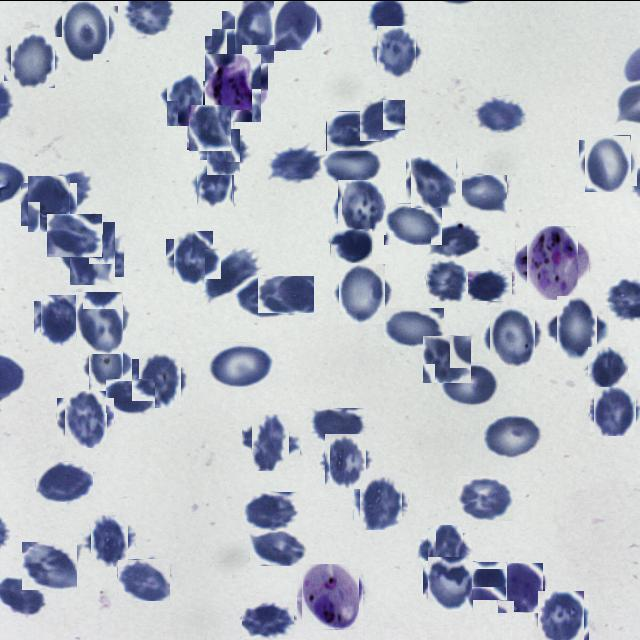gametocyte: (202, 55, 264, 118)
red blood cell: (206, 341, 276, 386), (58, 1, 114, 56), (72, 294, 126, 350), (65, 226, 120, 280), (336, 266, 390, 320), (480, 412, 543, 458), (550, 302, 604, 354), (485, 310, 539, 362), (582, 136, 634, 188), (336, 180, 388, 232), (228, 4, 280, 56), (205, 248, 261, 296), (8, 32, 59, 84), (22, 541, 77, 589), (440, 362, 499, 406), (24, 178, 74, 228), (425, 558, 475, 608), (409, 154, 459, 204), (458, 475, 513, 520), (48, 214, 104, 258), (61, 394, 110, 444), (536, 591, 586, 640), (136, 354, 185, 404), (384, 202, 442, 244), (383, 307, 444, 346), (496, 563, 544, 611), (357, 478, 405, 526), (322, 436, 370, 484), (247, 418, 295, 466), (424, 334, 472, 382), (323, 146, 382, 185), (36, 461, 93, 501), (242, 491, 300, 530), (170, 234, 217, 282), (373, 28, 420, 76), (271, 0, 320, 46), (117, 558, 170, 600), (327, 110, 382, 150), (250, 527, 307, 565), (310, 408, 366, 446), (258, 276, 314, 314), (162, 76, 208, 121), (592, 388, 638, 433), (87, 517, 132, 562), (37, 297, 82, 342), (269, 145, 322, 183), (472, 95, 526, 132), (423, 528, 468, 572), (242, 278, 296, 314), (84, 341, 128, 385), (194, 162, 238, 206), (188, 106, 232, 150), (359, 98, 405, 140), (460, 174, 507, 215), (242, 601, 294, 638), (586, 347, 629, 390), (208, 31, 250, 73), (426, 258, 466, 301), (106, 378, 155, 412), (203, 131, 243, 171), (431, 224, 479, 256), (330, 227, 372, 262), (470, 562, 508, 598), (468, 270, 512, 300)
trophozoite: (520, 231, 584, 294), (299, 566, 362, 628)
